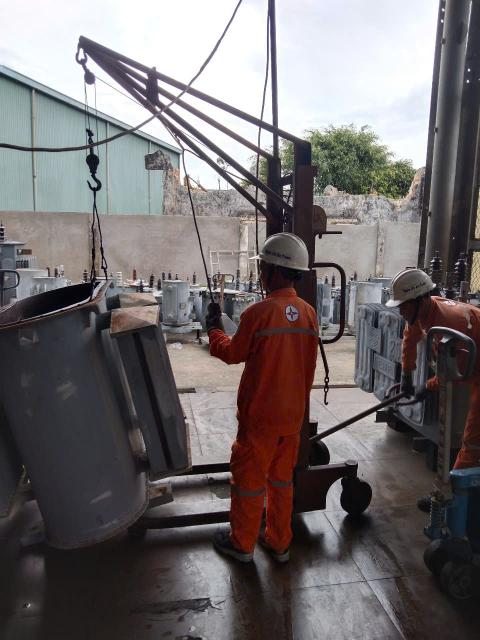gloves: (202, 299, 235, 337), (397, 364, 414, 395), (418, 380, 433, 404)
helmet: (248, 226, 312, 282), (383, 266, 443, 306)
shoes: (213, 518, 263, 563), (265, 526, 300, 563), (410, 479, 446, 513)
